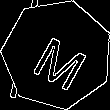M_NE: (24, 21, 90, 87)
